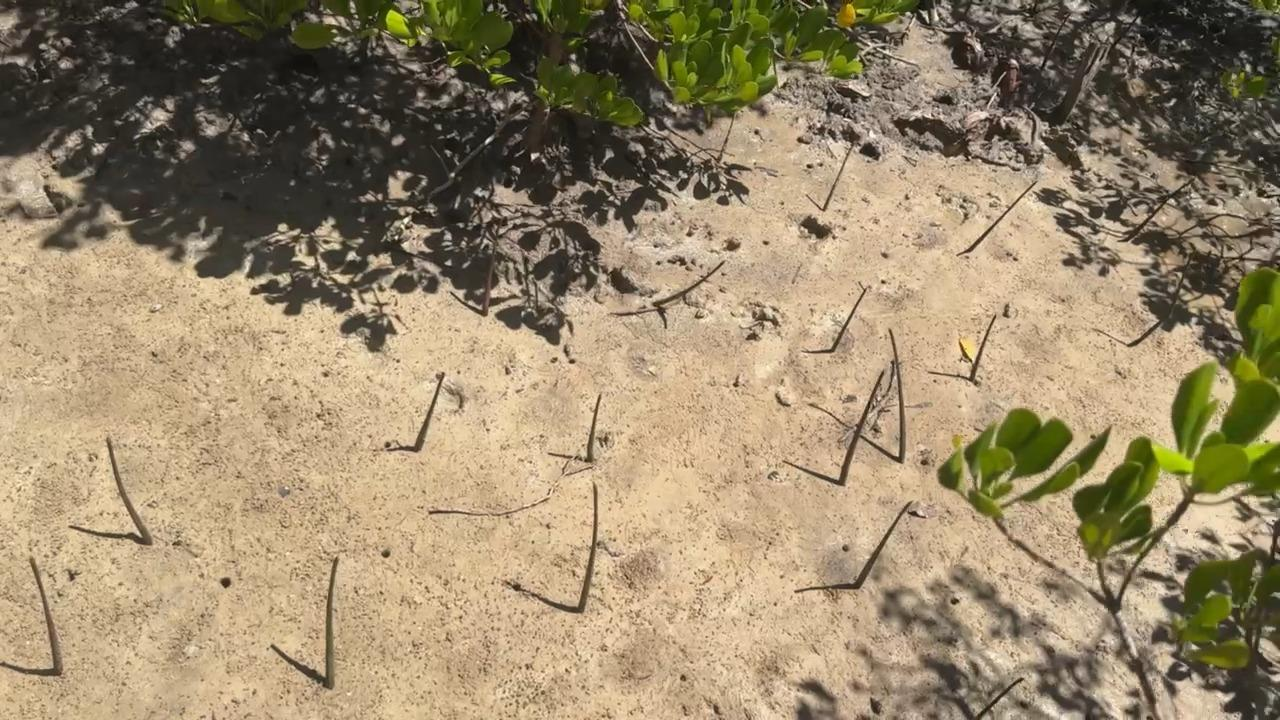Tree: (837, 369, 886, 487), (852, 500, 915, 589), (967, 180, 1040, 253), (105, 436, 153, 547), (27, 555, 64, 676), (651, 259, 729, 308), (1134, 178, 1194, 234), (576, 481, 599, 615), (886, 325, 908, 465), (412, 371, 447, 453), (829, 285, 869, 353), (821, 139, 856, 213), (971, 675, 1026, 720), (324, 555, 341, 689), (1166, 244, 1195, 319), (967, 313, 997, 384), (1038, 12, 1072, 71), (481, 222, 501, 318), (1109, 11, 1141, 52), (587, 392, 603, 464), (717, 112, 737, 163)
